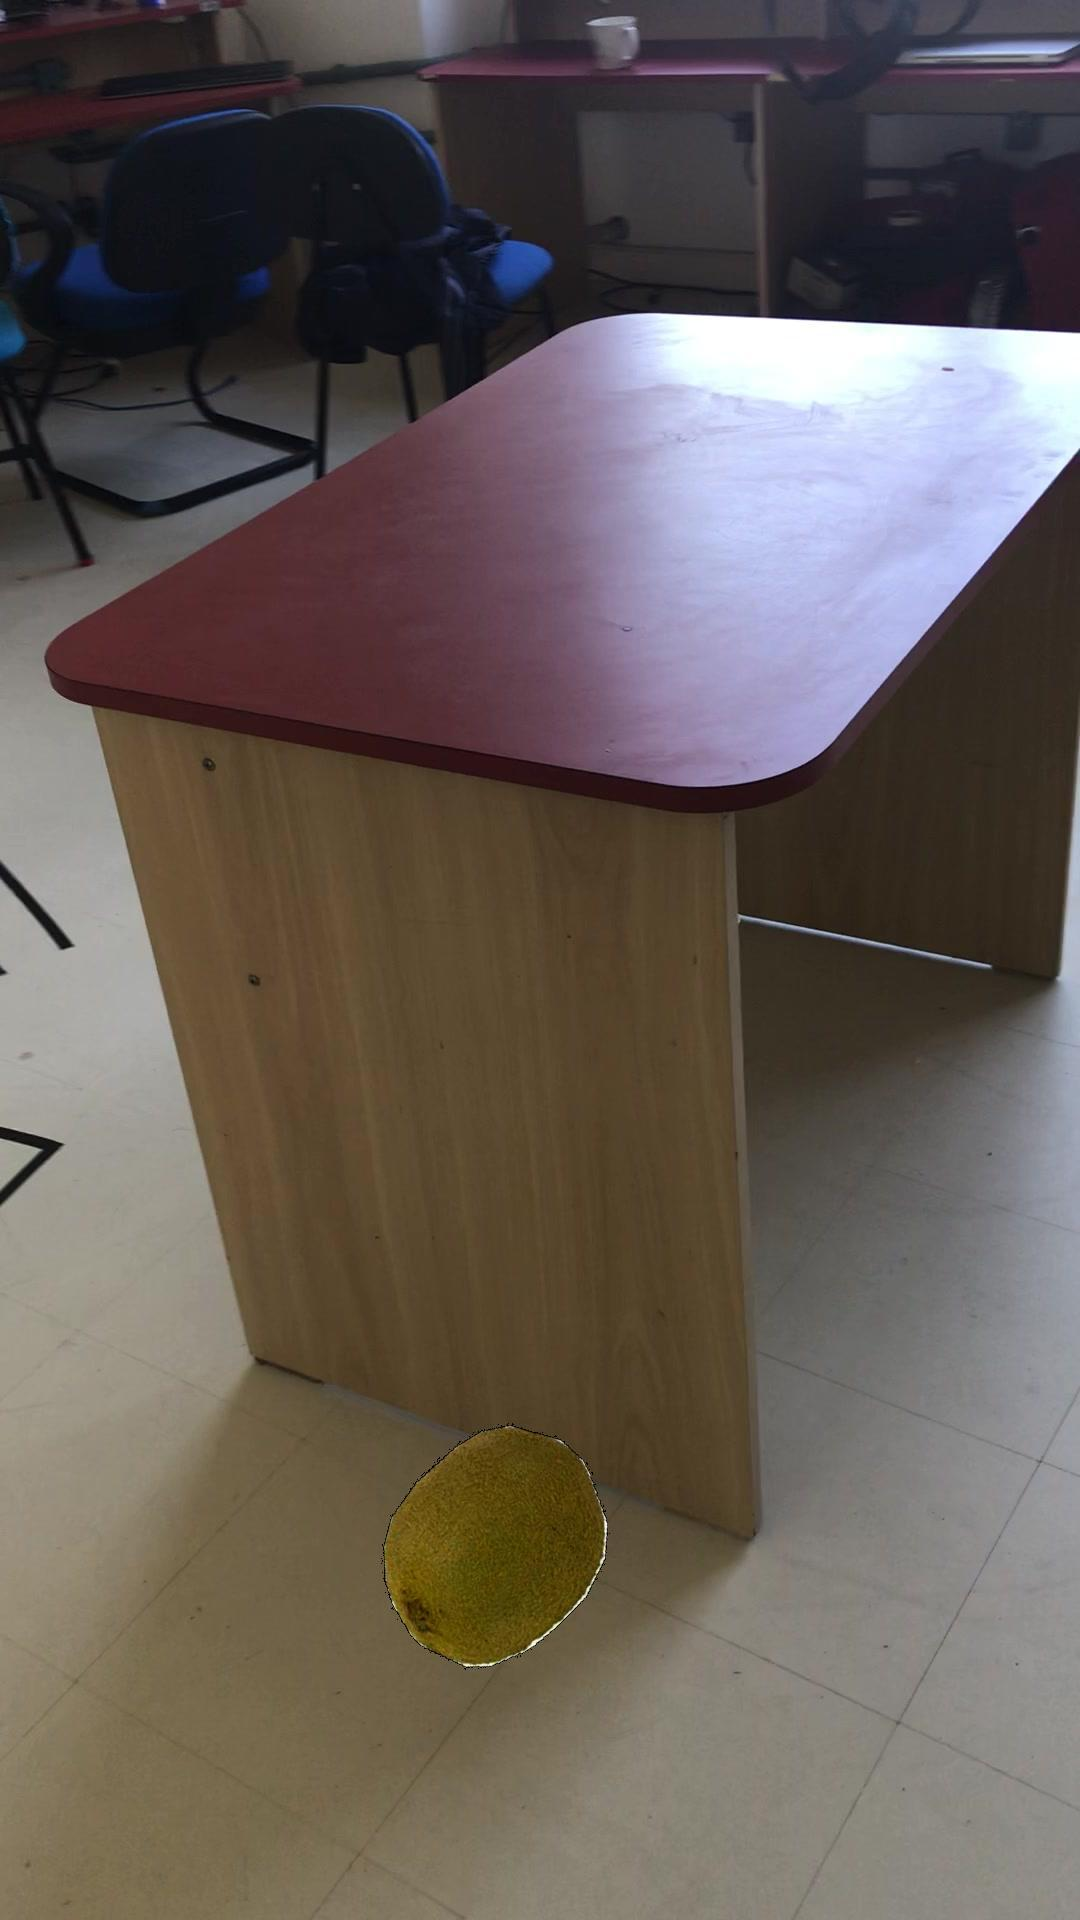kiwi: (381, 1422, 607, 1667)
